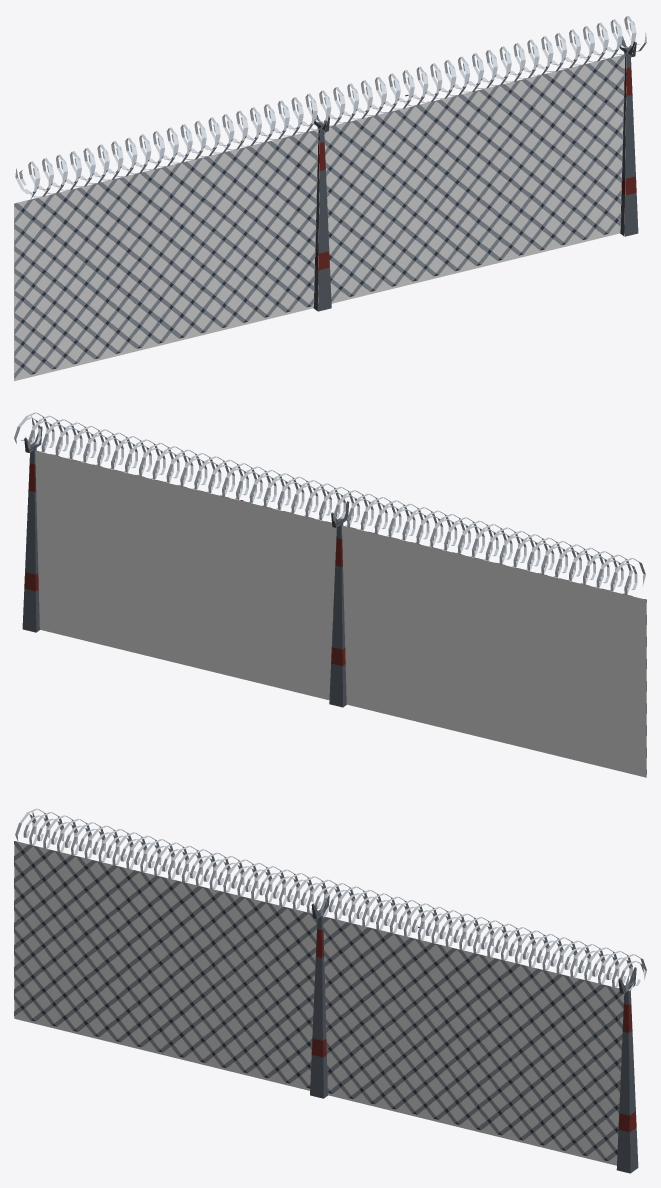
Rendered from Fence.fbx.
3 renders of one model, top to bottom at view 1: azimuth 30°, elevation 25°; view 2: azimuth 150°, elevation 25°; view 3: azimuth 330°, elevation 25°, orthographic.
Visible parts, largest first — view 1: pPlane14, pPlane13, pCylinder51, pCube87, pCube89; view 2: pPlane14, pCylinder51, pCube89, pCube87; view 3: pPlane14, pPlane13, pCylinder51, pCube87, pCube89.
Part boxes in pixels (x1=…): pPlane14: x1=14, y1=55, x2=626, y2=381; pPlane13: x1=14, y1=54, x2=626, y2=378; pCylinder51: x1=15, y1=16, x2=646, y2=199; pCube87: x1=619, y1=36, x2=638, y2=236; pCube89: x1=312, y1=109, x2=331, y2=311; pPlane14: x1=35, y1=450, x2=646, y2=777; pCylinder51: x1=14, y1=412, x2=645, y2=594; pCube89: x1=329, y1=501, x2=349, y2=707; pCube87: x1=22, y1=426, x2=42, y2=632; pPlane14: x1=14, y1=841, x2=624, y2=1165; pPlane13: x1=14, y1=841, x2=623, y2=1161; pCylinder51: x1=15, y1=808, x2=646, y2=990; pCube87: x1=616, y1=967, x2=638, y2=1173; pCube89: x1=310, y1=892, x2=329, y2=1098.
Bounding box in the file's own units: 12.2 × 3.98 × 0.6265.
